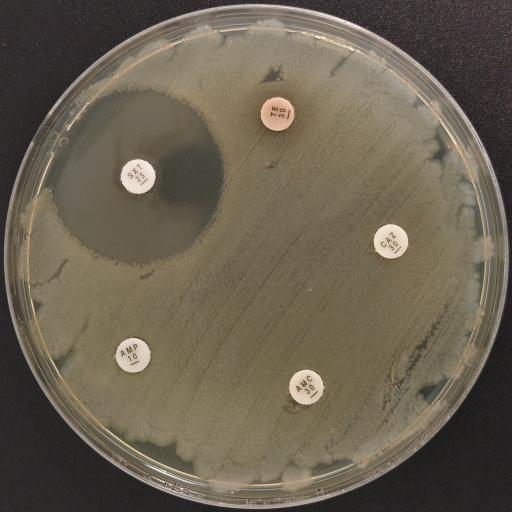disc: (120, 158, 156, 194), (373, 224, 408, 258), (260, 97, 294, 131), (116, 338, 150, 372), (290, 370, 324, 404)
